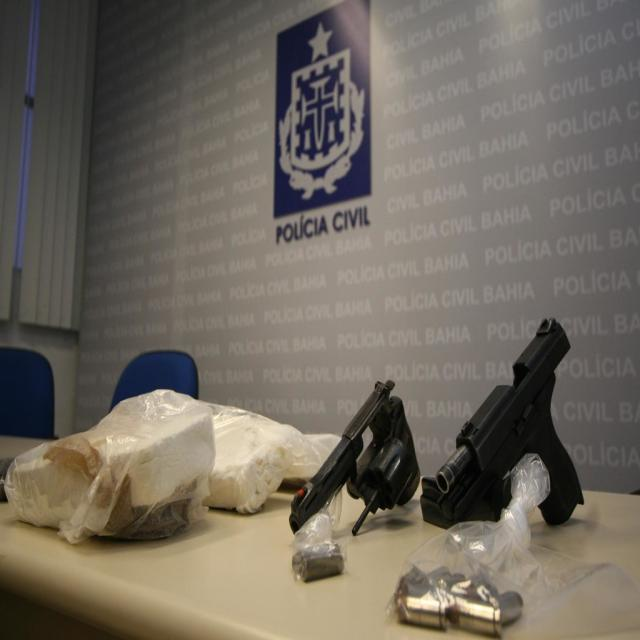Gun: (422, 319, 584, 528), (290, 380, 420, 534)
